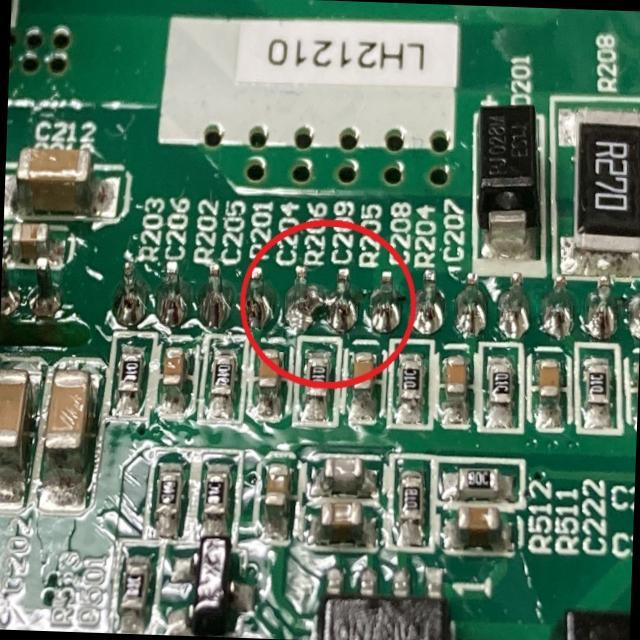Short_circuit: (284, 267, 358, 334)
